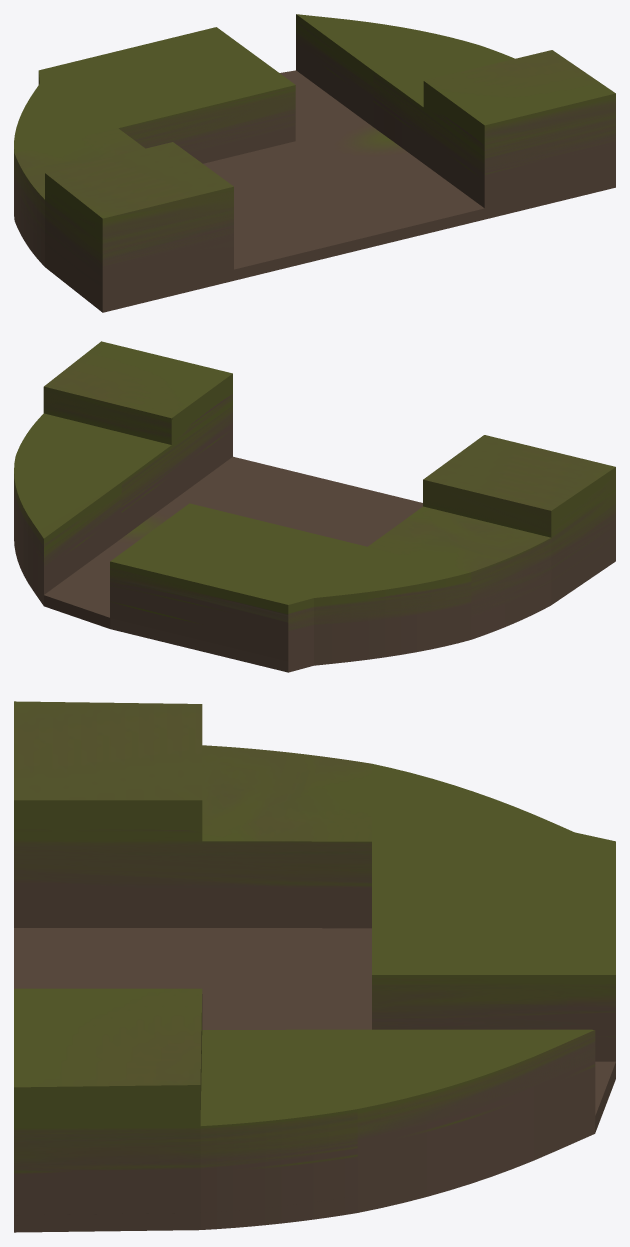
File: Mapa tex.fbx
The picture shows the model from 3 angles, top to bottom: view 1: azimuth 30°, elevation 25°; view 2: azimuth 150°, elevation 25°; view 3: azimuth 270°, elevation 25°; orthographic projection. The views are drawn at different scales.
Visible parts, largest first — view 1: Cube.002; view 2: Cube.002; view 3: Cube.002.
Part boxes in pixels (<box>): Cube.002: <box>14,14,615,312</box>; Cube.002: <box>14,341,615,672</box>; Cube.002: <box>14,701,615,1232</box>.
Bounding box in the file's own units: 1100 × 193 × 725.
